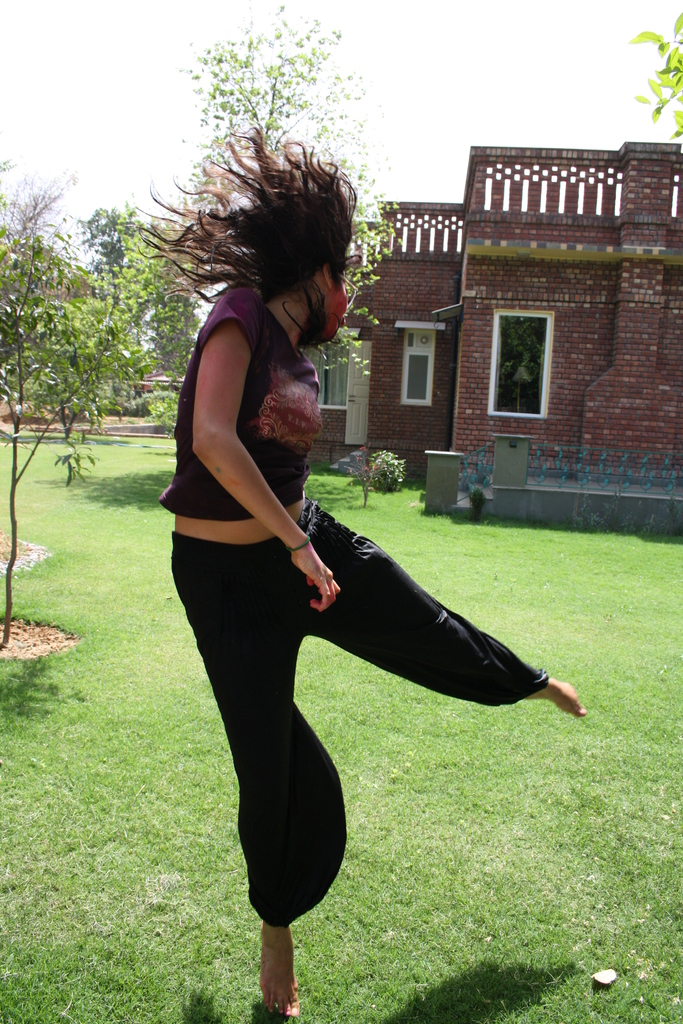Person: (122, 126, 585, 1016)
